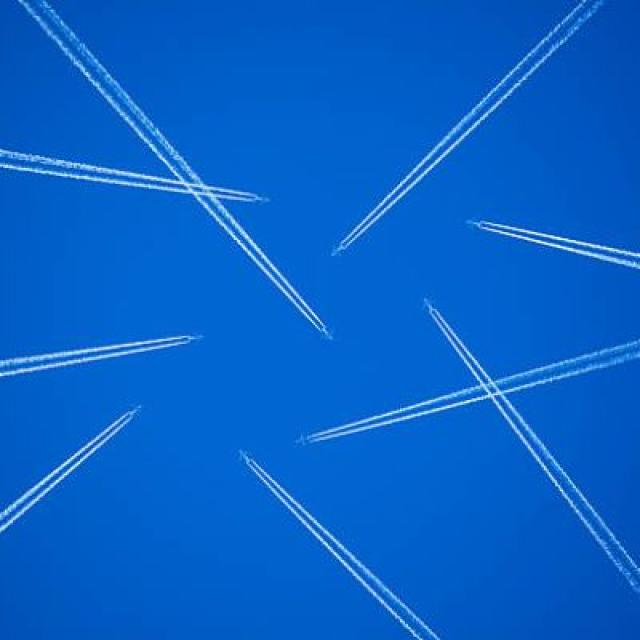Ct: (1, 18, 640, 521)
